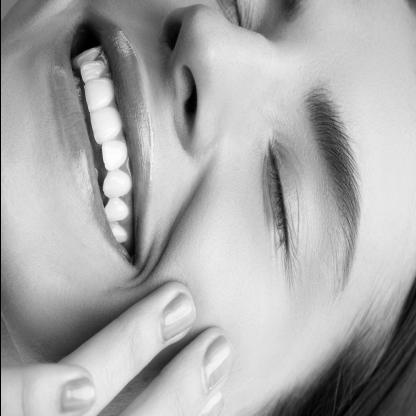Eye: (256, 132, 309, 261), (215, 1, 268, 29)
Mouth: (50, 8, 154, 272)
Nose: (159, 5, 267, 157)
